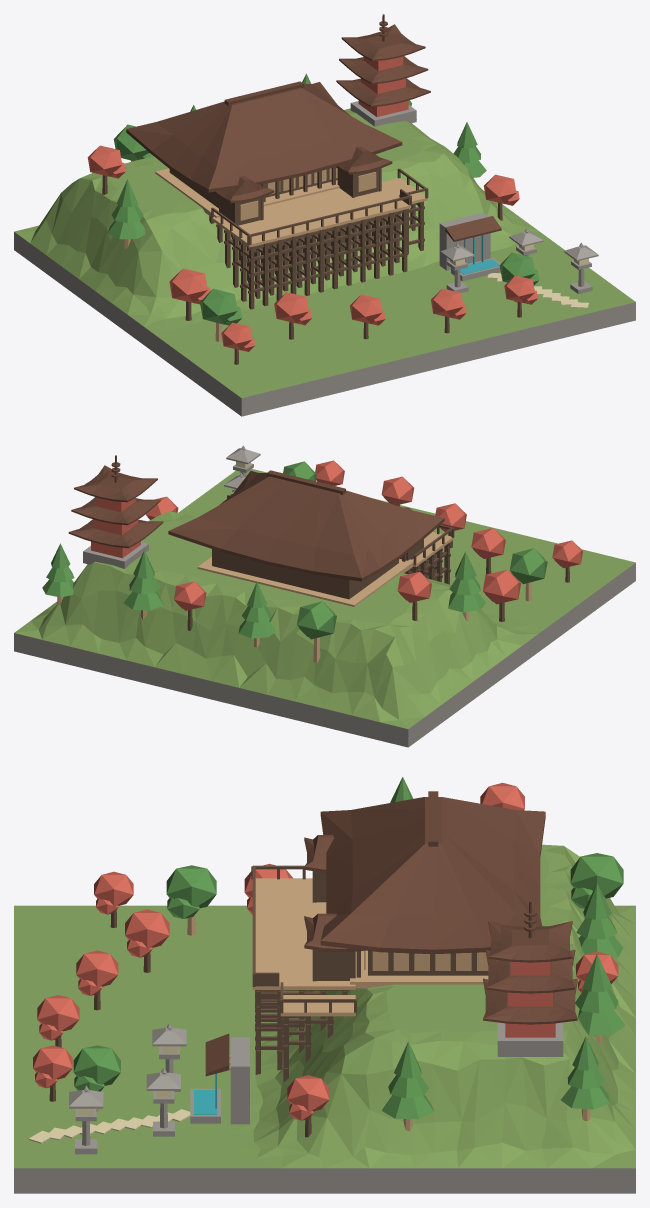
Rendered from kiyomizu-dera.glb.
3 renders of one model, top to bottom at view 1: azimuth 30°, elevation 25°; view 2: azimuth 150°, elevation 25°; view 3: azimuth 270°, elevation 25°, orthographic. The views are drawn at different scales.
Parts seen in each view (by area): view 1: kiyomizu_terrain, kiyomizu_bark, kiyomizu_stone, kiyomizu_darkwood, kiyomizu_vermilion, kiyomizu_wood, kiyomizu_foliage, kiyomizu_cream; view 2: kiyomizu_terrain, kiyomizu_bark, kiyomizu_stone, kiyomizu_foliage, kiyomizu_vermilion, kiyomizu_darkwood, kiyomizu_wood; view 3: kiyomizu_terrain, kiyomizu_bark, kiyomizu_stone, kiyomizu_foliage, kiyomizu_vermilion, kiyomizu_wood, kiyomizu_darkwood, kiyomizu_cream, kiyomizu_water.
Boxes of the visible parts, <box> form: kiyomizu_terrain: <box>14,108,635,397</box>; kiyomizu_bark: <box>126,14,501,241</box>; kiyomizu_stone: <box>14,101,635,416</box>; kiyomizu_darkwood: <box>102,167,521,364</box>; kiyomizu_vermilion: <box>87,56,537,351</box>; kiyomizu_wood: <box>124,160,517,341</box>; kiyomizu_foliage: <box>107,73,539,325</box>; kiyomizu_cream: <box>487,273,588,308</box>; kiyomizu_terrain: <box>14,469,635,728</box>; kiyomizu_bark: <box>68,455,444,581</box>; kiyomizu_stone: <box>14,445,635,747</box>; kiyomizu_foliage: <box>42,461,547,639</box>; kiyomizu_vermilion: <box>91,460,582,610</box>; kiyomizu_darkwood: <box>187,504,569,630</box>; kiyomizu_wood: <box>57,532,531,662</box>; kiyomizu_terrain: <box>14,844,635,1168</box>; kiyomizu_bark: <box>205,791,577,1076</box>; kiyomizu_stone: <box>14,1022,635,1193</box>; kiyomizu_foliage: <box>73,777,625,1119</box>; kiyomizu_vermilion: <box>33,782,618,1120</box>; kiyomizu_wood: <box>96,878,601,1131</box>; kiyomizu_darkwood: <box>49,865,488,1137</box>; kiyomizu_cream: <box>28,1109,190,1143</box>; kiyomizu_water: <box>194,1073,217,1114</box>.
Size of the model in its own units: 22.4 by 9.92 by 22.4.
